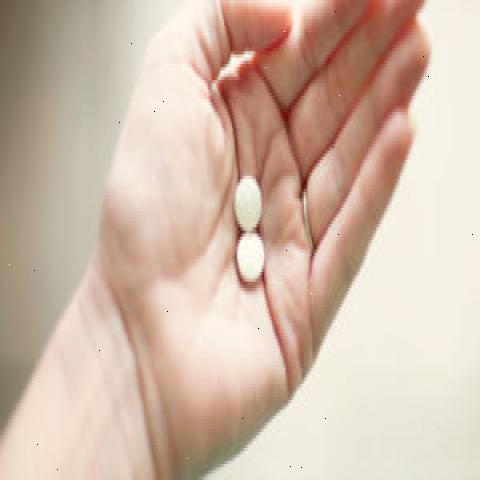Pill: (227, 158, 274, 230), (232, 231, 275, 291)
